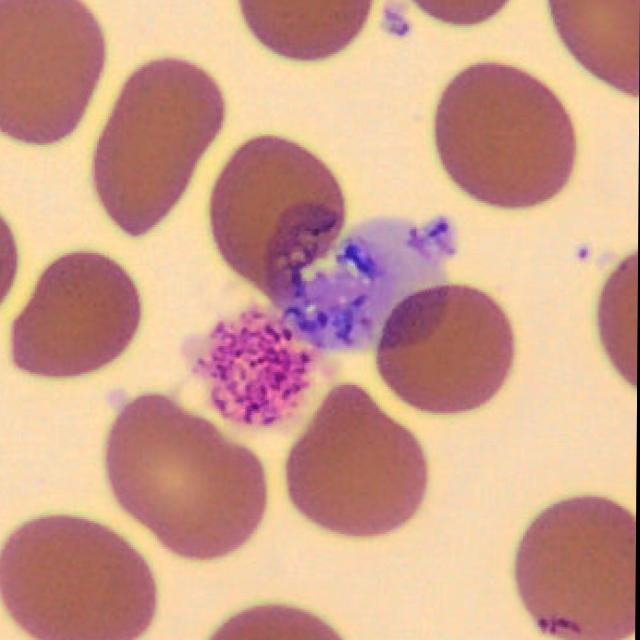Artefato: (285, 218, 457, 353)
